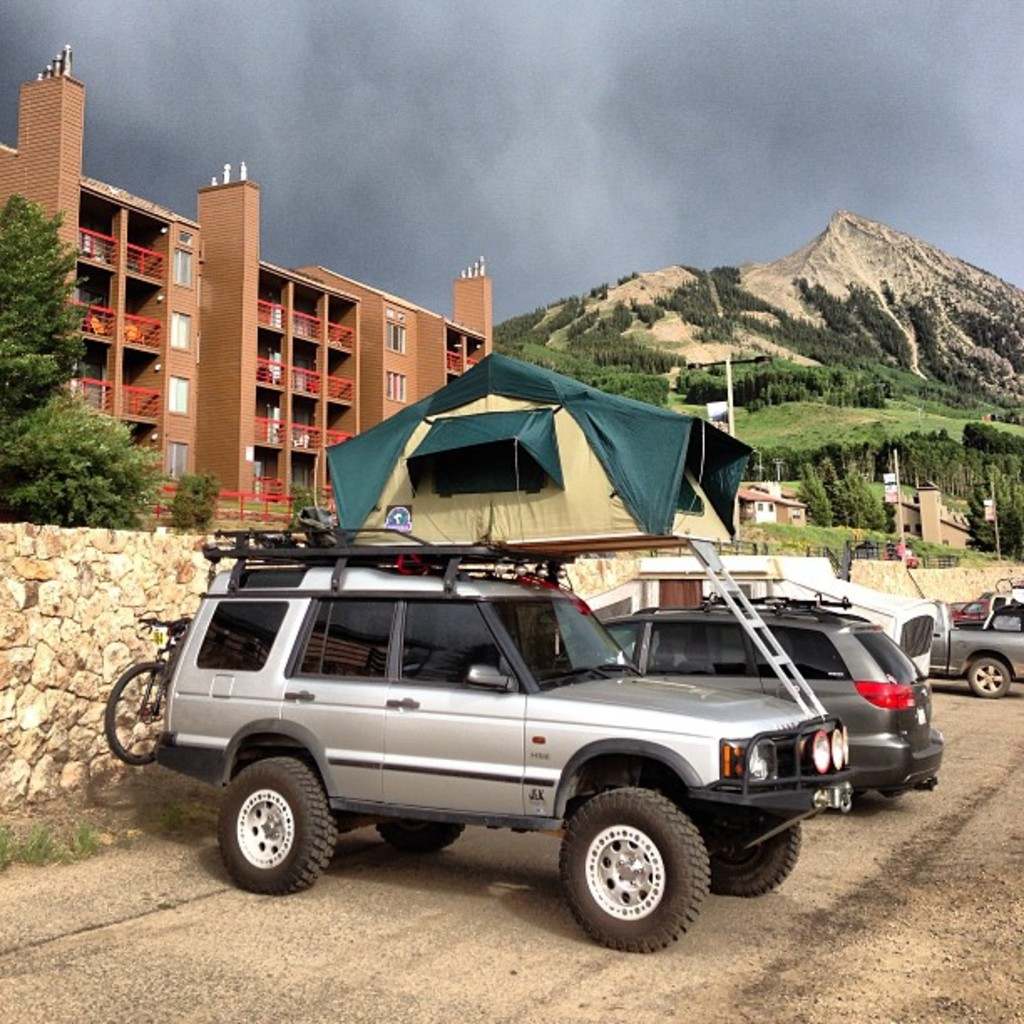Car: (158, 518, 861, 957), (588, 583, 942, 811), (928, 582, 1022, 701)
